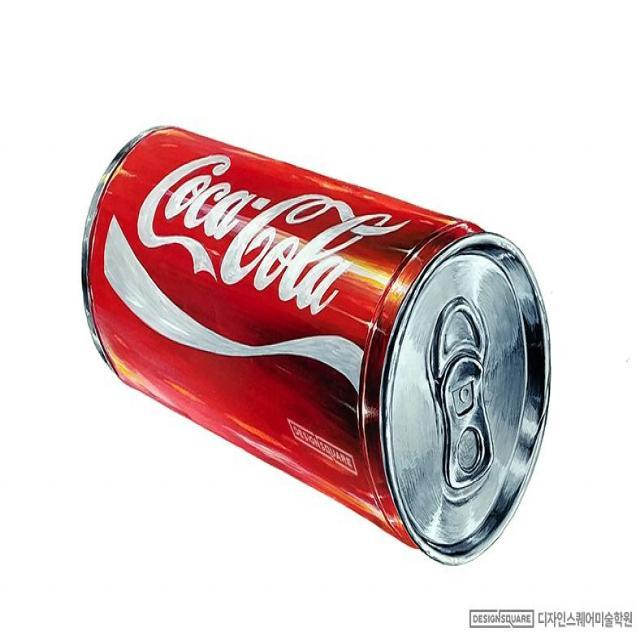coca-cola: (78, 120, 554, 572)
